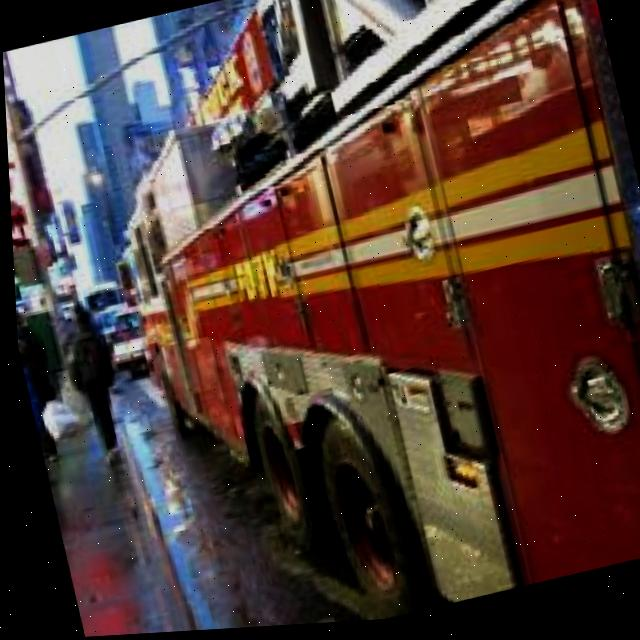emergency: (57, 0, 640, 637)
